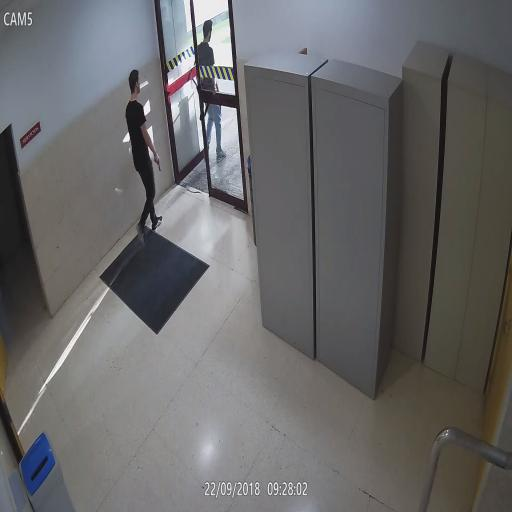Handgun: (153, 151, 161, 172)
